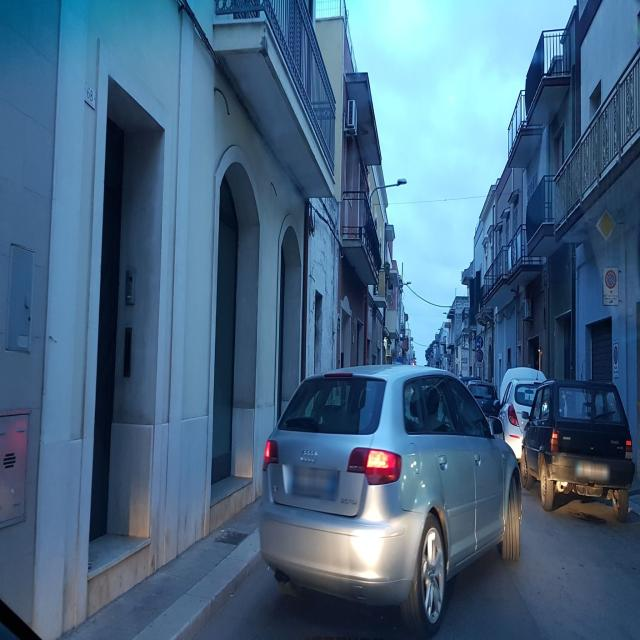forb_stopping: (476, 349, 483, 362)
